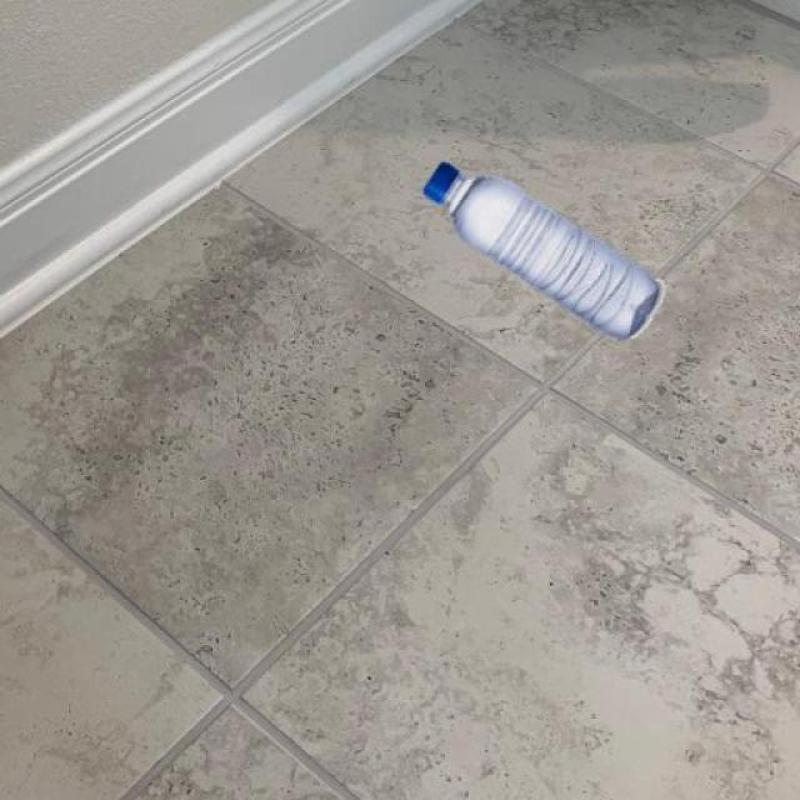botella: (424, 159, 661, 340)
